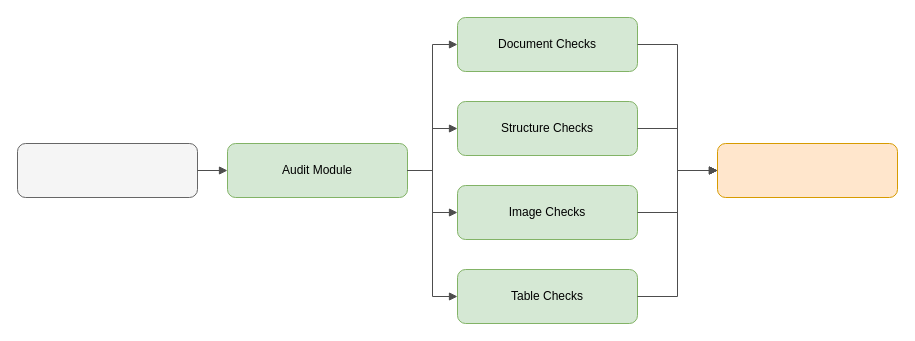
The diagram is 915 pixels wide and 341 high, and some of its shapes have lost their labels. The centre of each missing label's shape, as x and y in pixels:
"Audit Report" goes at point (807, 170).
"HTML Input" goes at point (107, 170).
